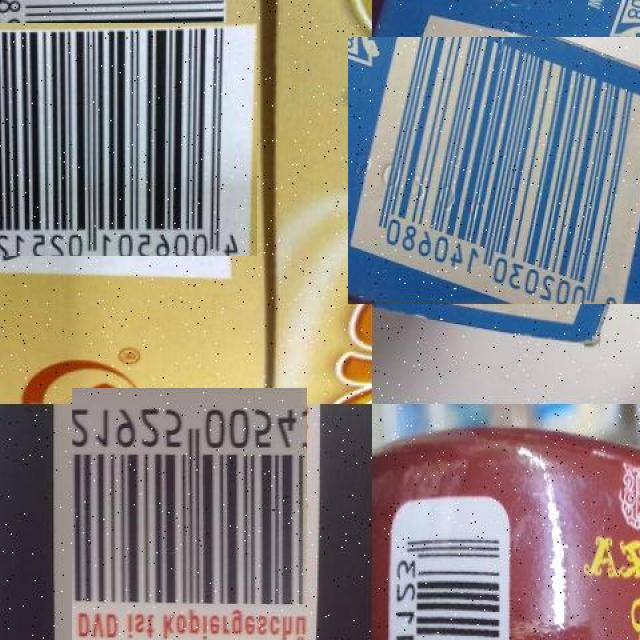Barcode: (360, 25, 640, 317), (0, 12, 246, 269), (64, 396, 316, 640), (377, 524, 511, 640)
